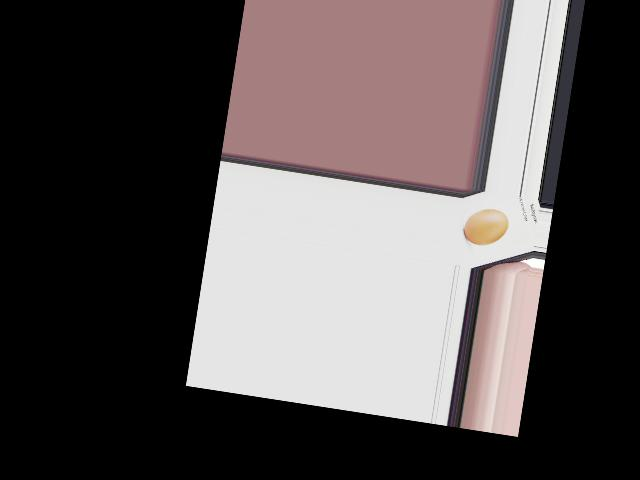egg: (461, 205, 510, 249)
